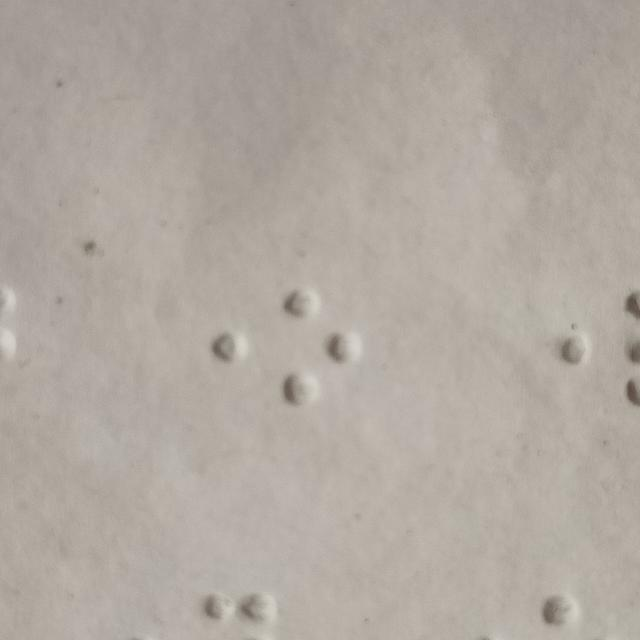dot_5: (173, 288, 245, 404)
two_cell_alphabet_opo: (286, 290, 359, 405)
